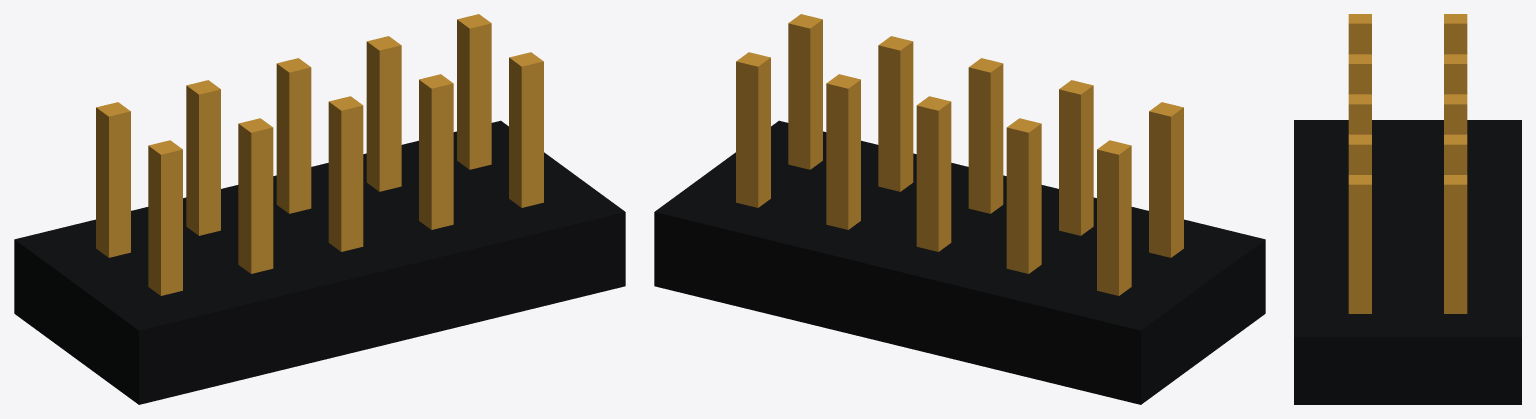
Rendered from L131_USB_3_4.fbx.
3 views of the same model, side by side, from view 1: azimuth 30°, elevation 25°; view 2: azimuth 150°, elevation 25°; view 3: azimuth 270°, elevation 25° (orthographic). The views are drawn at different scales.
Visible parts, largest first — view 1: USB_3_4_Black, USB_3_4_Gold; view 2: USB_3_4_Black, USB_3_4_Gold; view 3: USB_3_4_Black, USB_3_4_Gold.
Boxes of the visible parts, x1=… form: USB_3_4_Black: x1=14, y1=120, x2=625, y2=404; USB_3_4_Gold: x1=96, y1=14, x2=543, y2=295; USB_3_4_Black: x1=654, y1=120, x2=1265, y2=404; USB_3_4_Gold: x1=736, y1=14, x2=1183, y2=295; USB_3_4_Black: x1=1294, y1=120, x2=1521, y2=404; USB_3_4_Gold: x1=1348, y1=14, x2=1467, y2=313.
Bounding box in the file's own units: 1.37 × 0.58 × 0.608.
